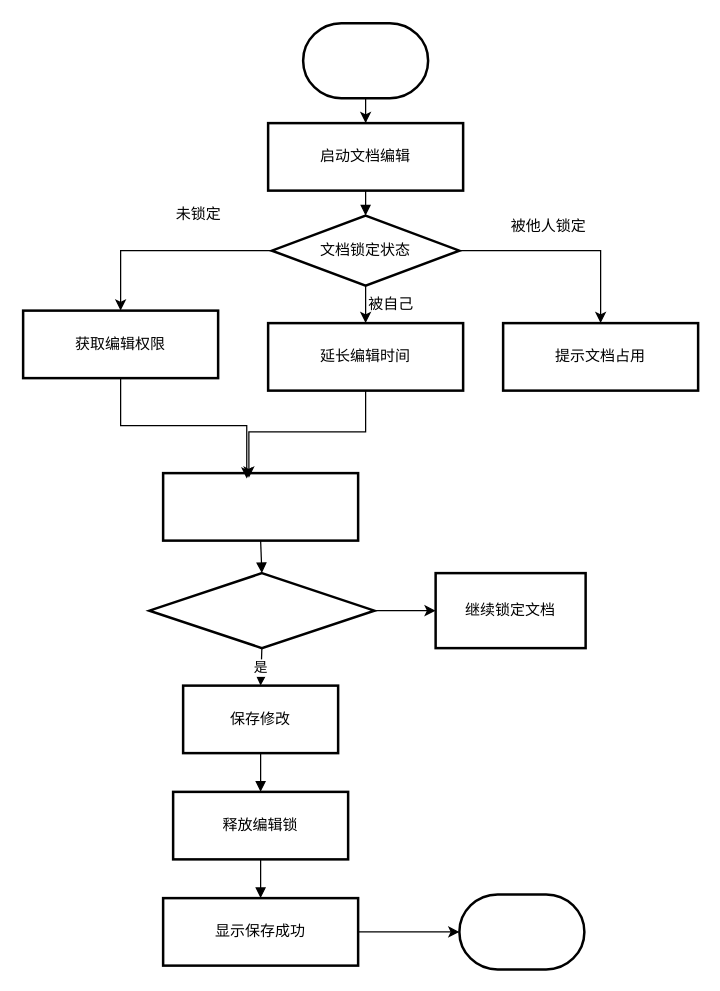
This 720x991 diagram has some shape labels left out. The shapes that lost their labels are listed below. From the top down, each one's box as (x1, y1, x2, y2) in pixels, then its label:
(301, 21, 429, 99): 开始
(161, 471, 359, 541): 进行内容修改
(148, 571, 375, 649): 确认保存
(458, 892, 585, 970): 结束
